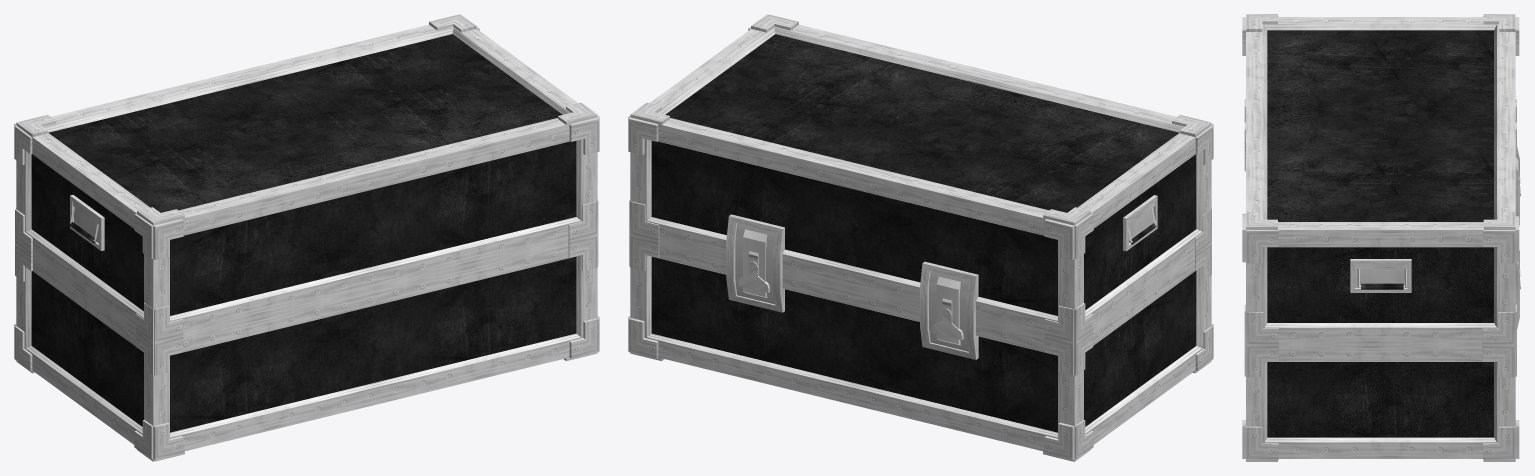
Rendered from flight_case_small_1.fbx.
3 renders of one model, left to right at view 1: azimuth 30°, elevation 25°; view 2: azimuth 150°, elevation 25°; view 3: azimuth 270°, elevation 25°, orthographic.
Visible parts, largest first — view 1: flight_case_small_1; view 2: flight_case_small_1; view 3: flight_case_small_1.
Part boxes in pixels (box(x1,y1,x2,y2)): flight_case_small_1: box(14, 14, 599, 461); flight_case_small_1: box(628, 14, 1213, 461); flight_case_small_1: box(1242, 14, 1520, 461).
Size of the model in its own units: 1.65 by 0.8335 by 0.8953.
